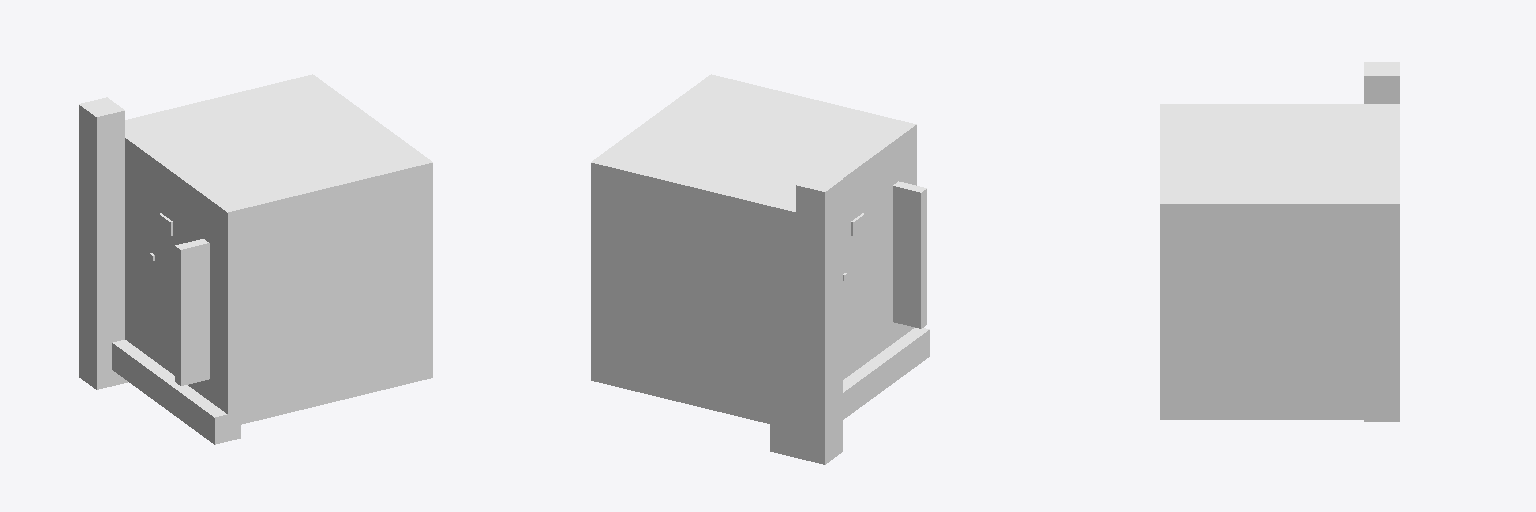
File: Building1-Entrance-0.obj
3 views of the same model, side by side, from view 1: azimuth 30°, elevation 25°; view 2: azimuth 150°, elevation 25°; view 3: azimuth 270°, elevation 25° (orthographic).
Visible parts, largest first — view 1: object 1; view 2: object 1; view 3: object 1.
Part boxes in pixels (bbox=[...]): object 1: bbox=[79, 74, 432, 444]; object 1: bbox=[591, 74, 929, 464]; object 1: bbox=[1160, 62, 1399, 421].
Bounding box in the file's own units: 90 × 100 × 80.